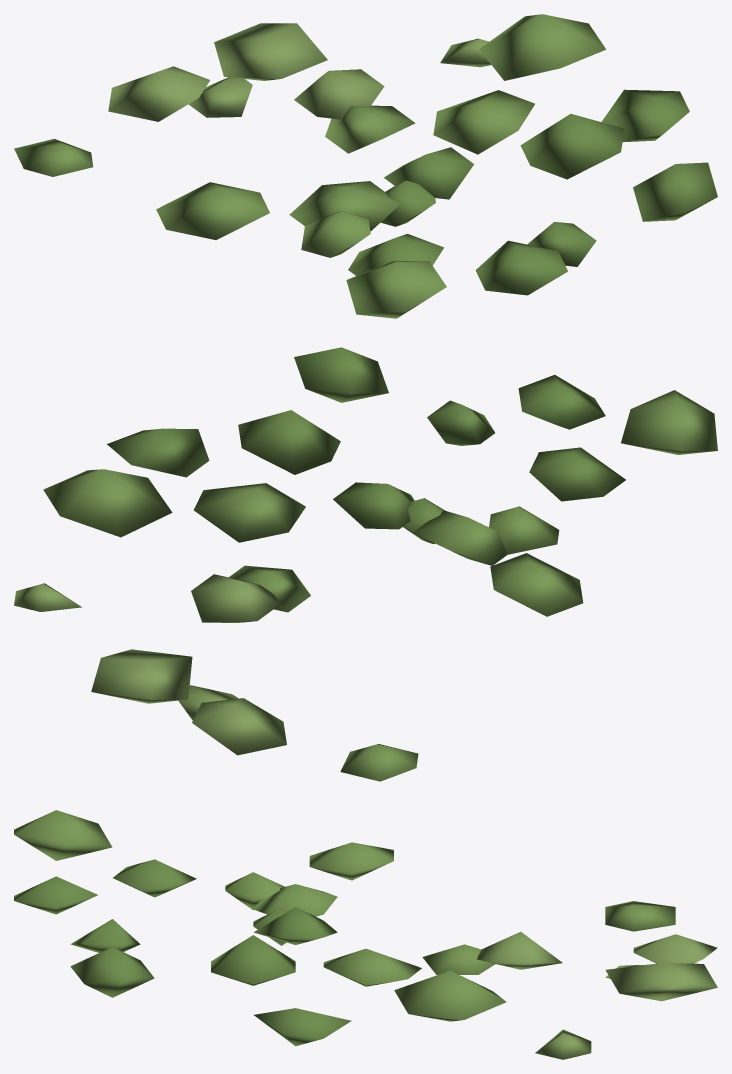
Rendered from canopy-2-0--21.glb.
3 views of the same model, one above another, from view 1: azimuth 30°, elevation 25°; view 2: azimuth 150°, elevation 25°; view 3: azimuth 270°, elevation 25° (orthographic). The views are drawn at different scales.
Bounding box in the file's own units: 92.5 × 25 × 125.
Materials: 1 (1 with a texture image).
